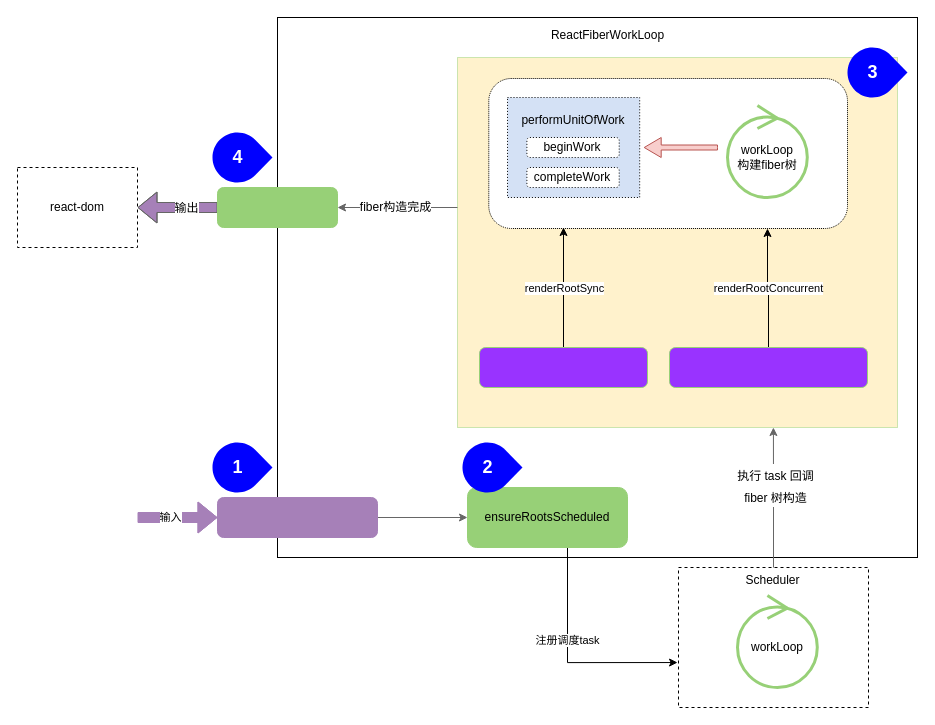
Some shapes in this 935 by 725 pixel diagram are drawn without their labels. Each missing label, with the centre of its shape:
commitRoot: pixel 277 207
performCOncurrentWorkOnRoot: pixel 768 367
performSyncWorkOnRoot: pixel 563 367
sheduleUpdateOnFiber: pixel 297 517
